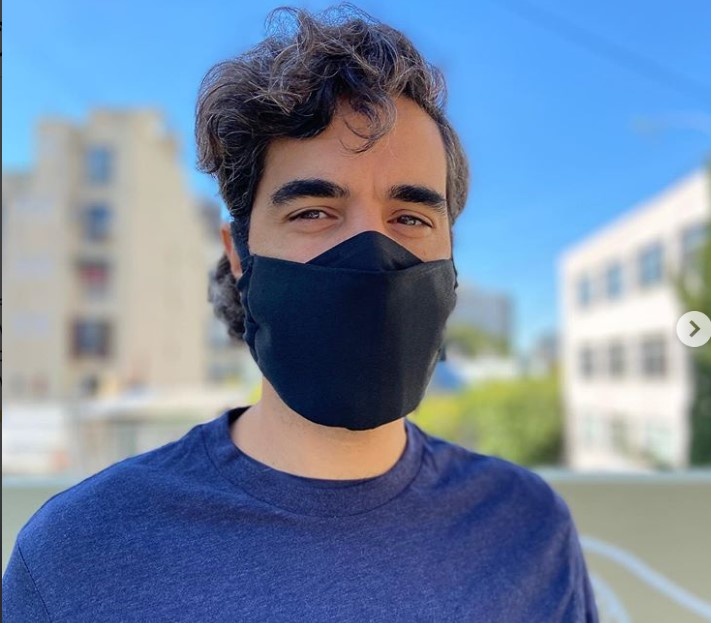face_with_mask: (225, 77, 456, 430)
